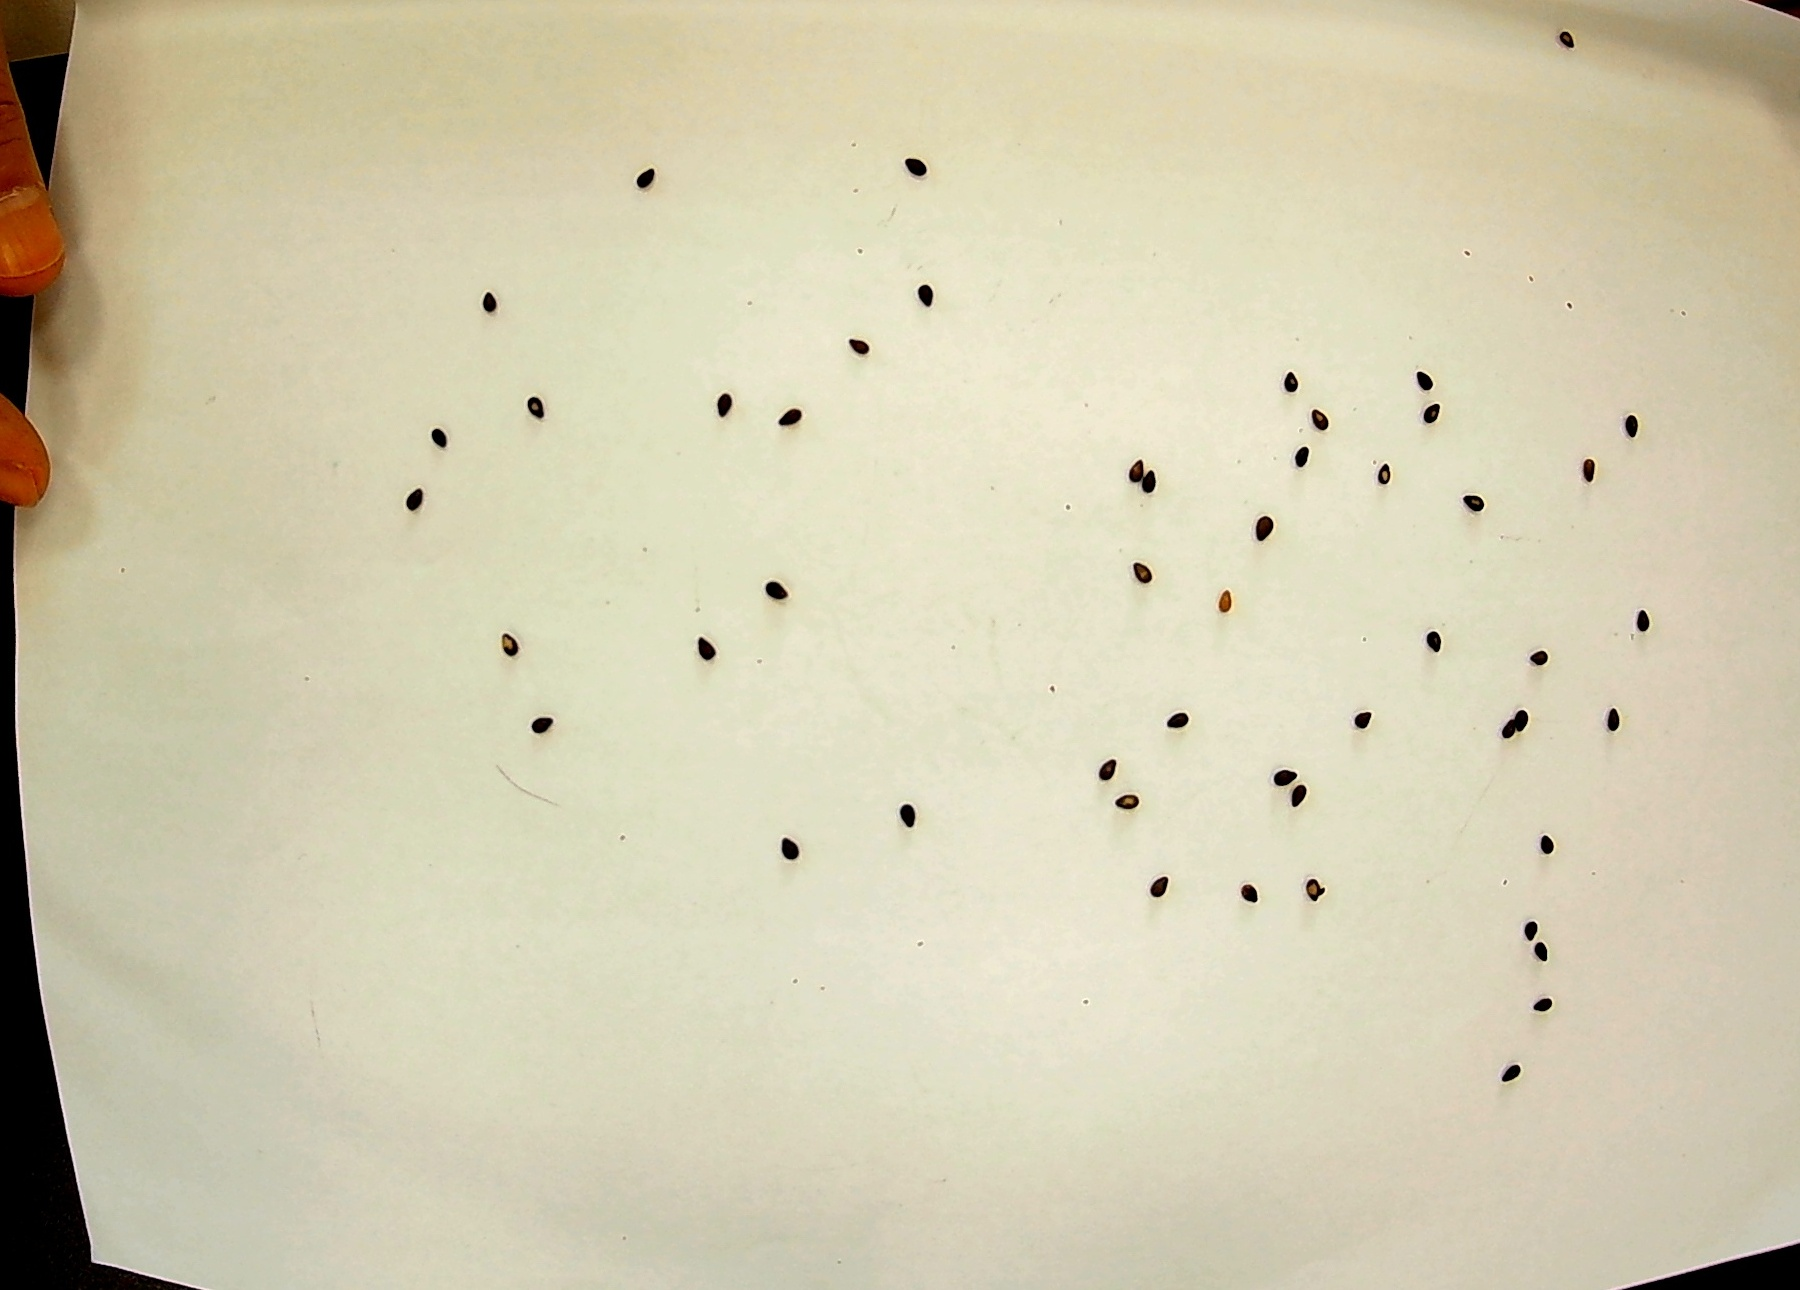sesami: (1446, 483, 1504, 524), (1624, 605, 1662, 646), (1423, 616, 1457, 662), (522, 701, 560, 741), (1522, 638, 1561, 674), (906, 281, 942, 318), (1520, 981, 1553, 1022), (900, 151, 932, 193), (1369, 451, 1401, 491), (1529, 829, 1560, 868), (1489, 1053, 1528, 1083), (758, 577, 802, 603), (1280, 370, 1314, 403), (777, 399, 808, 437), (700, 385, 740, 415), (396, 480, 426, 519), (491, 624, 522, 660), (896, 797, 927, 833), (1528, 935, 1561, 967), (1573, 457, 1607, 487), (1353, 706, 1388, 737), (426, 419, 453, 457), (1287, 776, 1316, 811), (1157, 708, 1194, 734), (696, 624, 719, 669), (1423, 401, 1454, 433), (777, 828, 804, 864), (1260, 761, 1296, 787), (1300, 875, 1331, 906), (1132, 549, 1164, 578), (1215, 578, 1235, 625), (846, 324, 872, 357), (1402, 370, 1441, 392), (474, 288, 501, 320), (1093, 748, 1119, 780), (527, 390, 554, 420), (1624, 401, 1642, 445), (1253, 508, 1277, 542), (1239, 881, 1266, 910), (1123, 450, 1147, 482), (1147, 468, 1168, 504), (1300, 408, 1328, 434), (633, 165, 657, 193), (1118, 787, 1141, 815), (1603, 711, 1631, 734), (1518, 704, 1538, 737), (1150, 875, 1178, 898), (1520, 914, 1539, 941), (1553, 24, 1574, 43), (1295, 445, 1312, 469)
